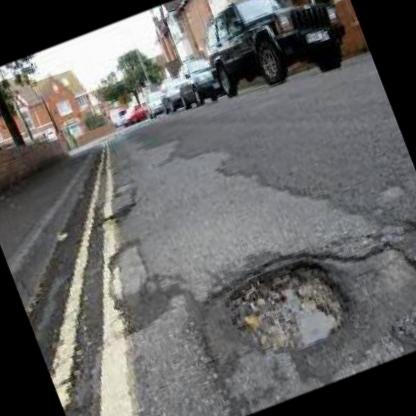pothole: (210, 240, 360, 374)
